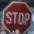Stop sign: (0, 0, 33, 33)
